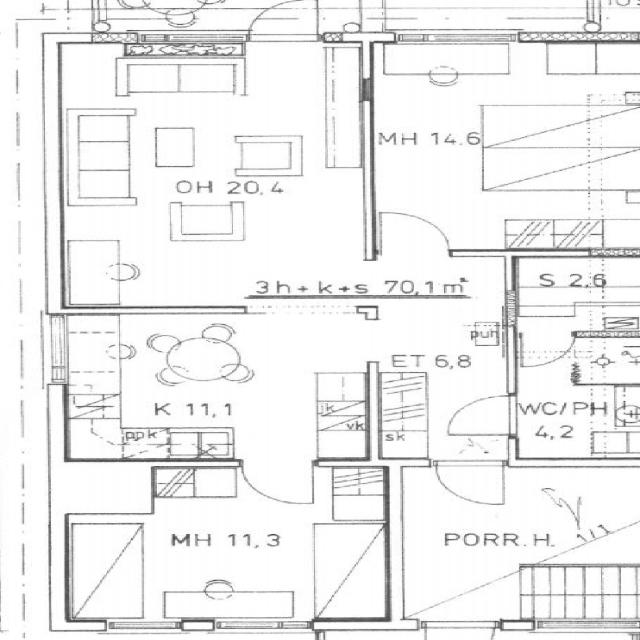door: (242, 458, 312, 508), (436, 458, 504, 509), (380, 209, 450, 256), (442, 396, 518, 435), (250, 0, 318, 43), (521, 331, 575, 370)
